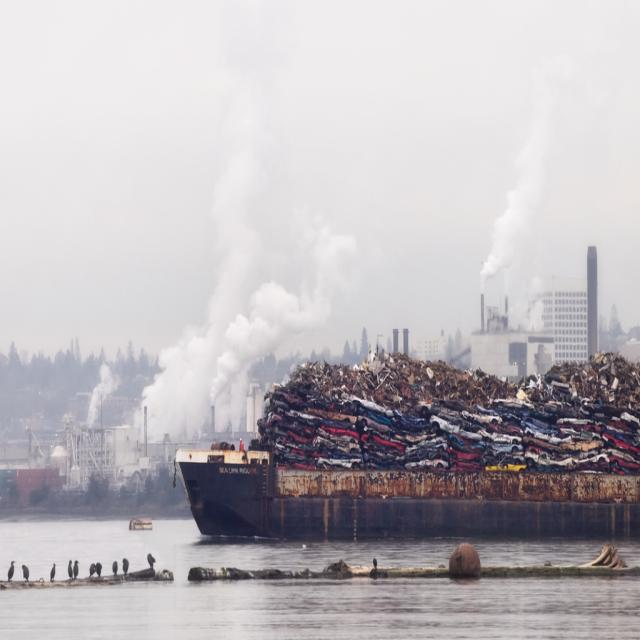Boat: (171, 332, 640, 540)
